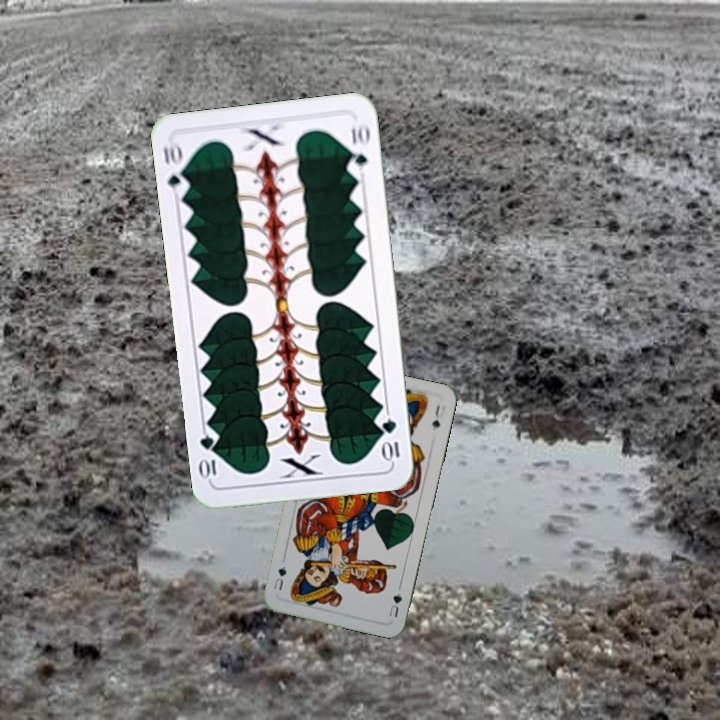G10: (159, 138, 191, 198), (378, 414, 402, 464)
GU: (385, 588, 405, 620)
